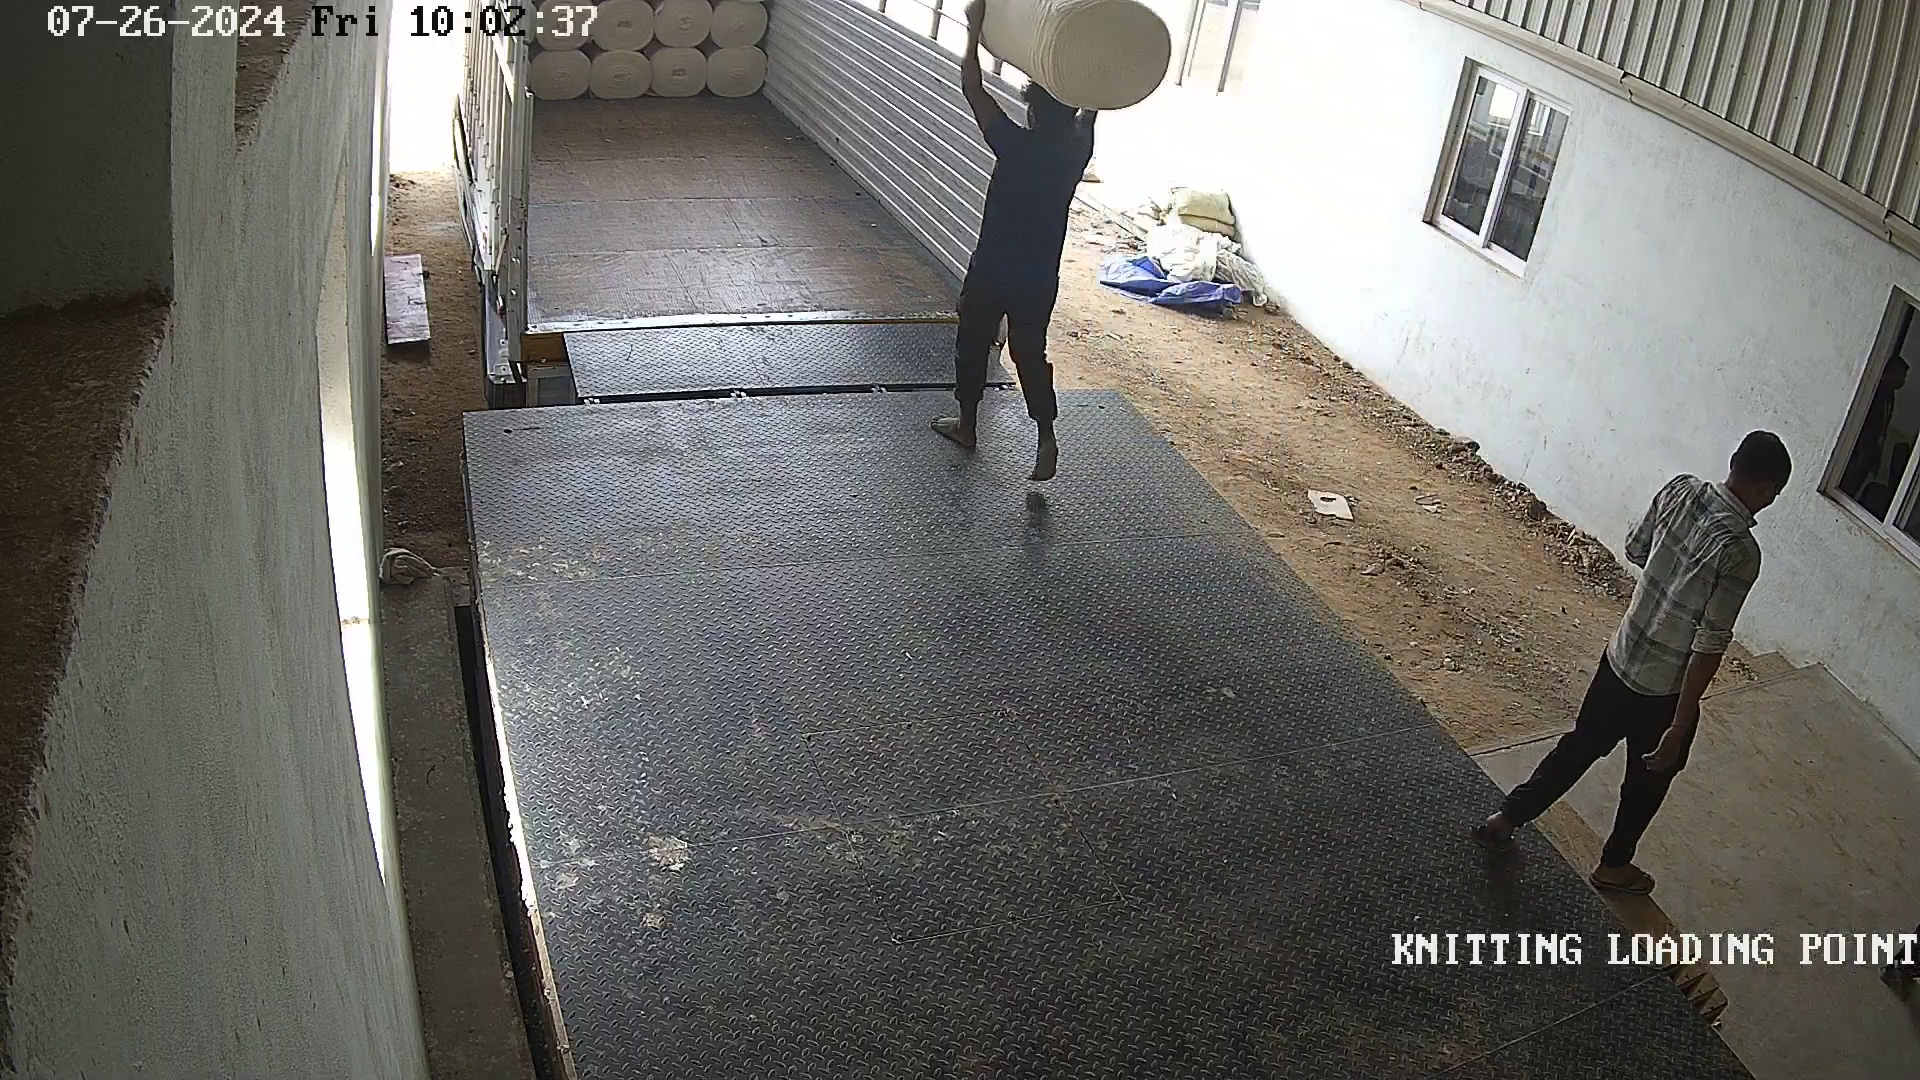bag: (940, 3, 1189, 112)
